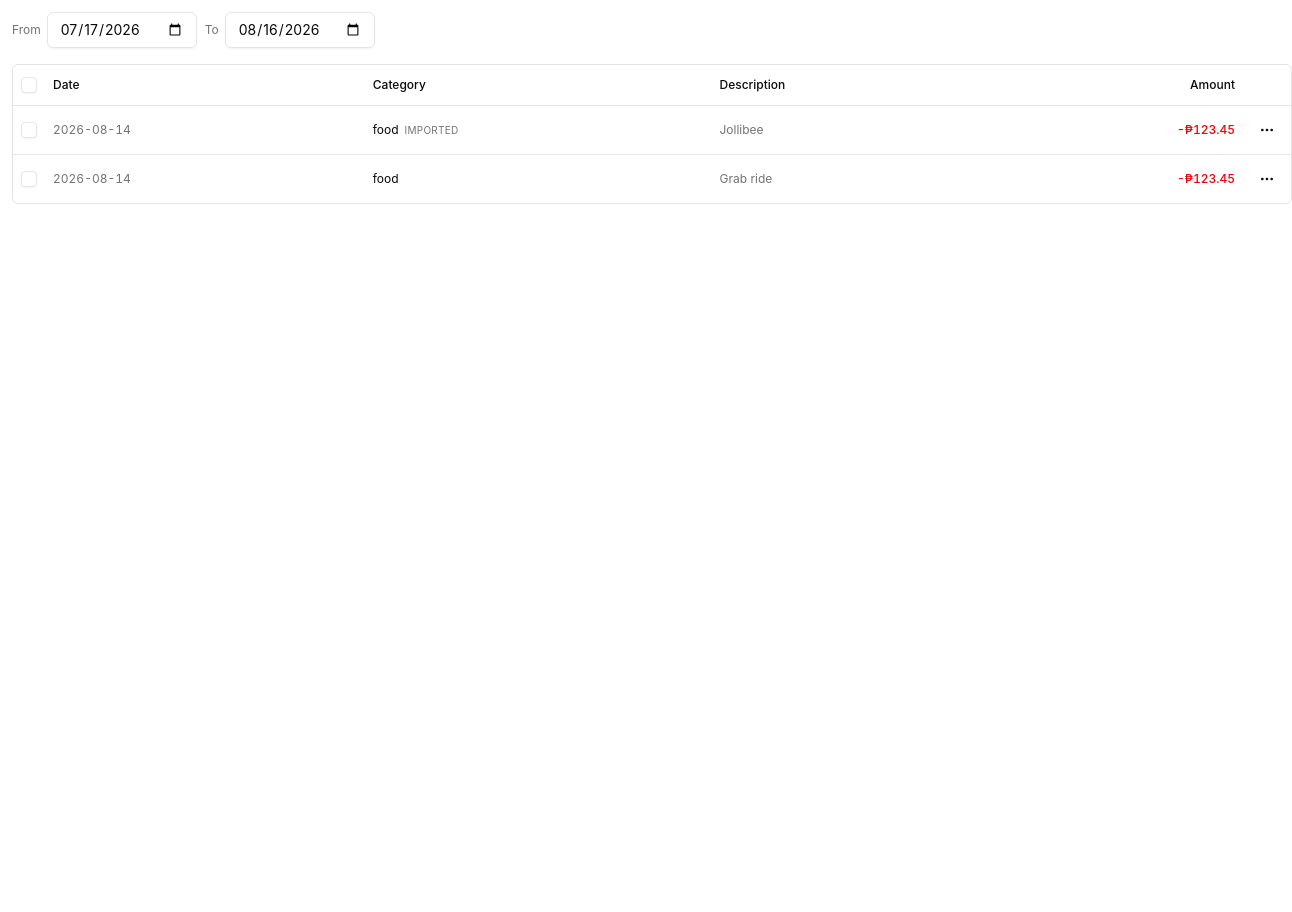
Test: TransactionsPage bulk selection › tri-state header checkbox selects and clears all visible rows
Click the checkbox named "Select all visible transactions".
click(29, 85)  # box [21, 77, 37, 93]
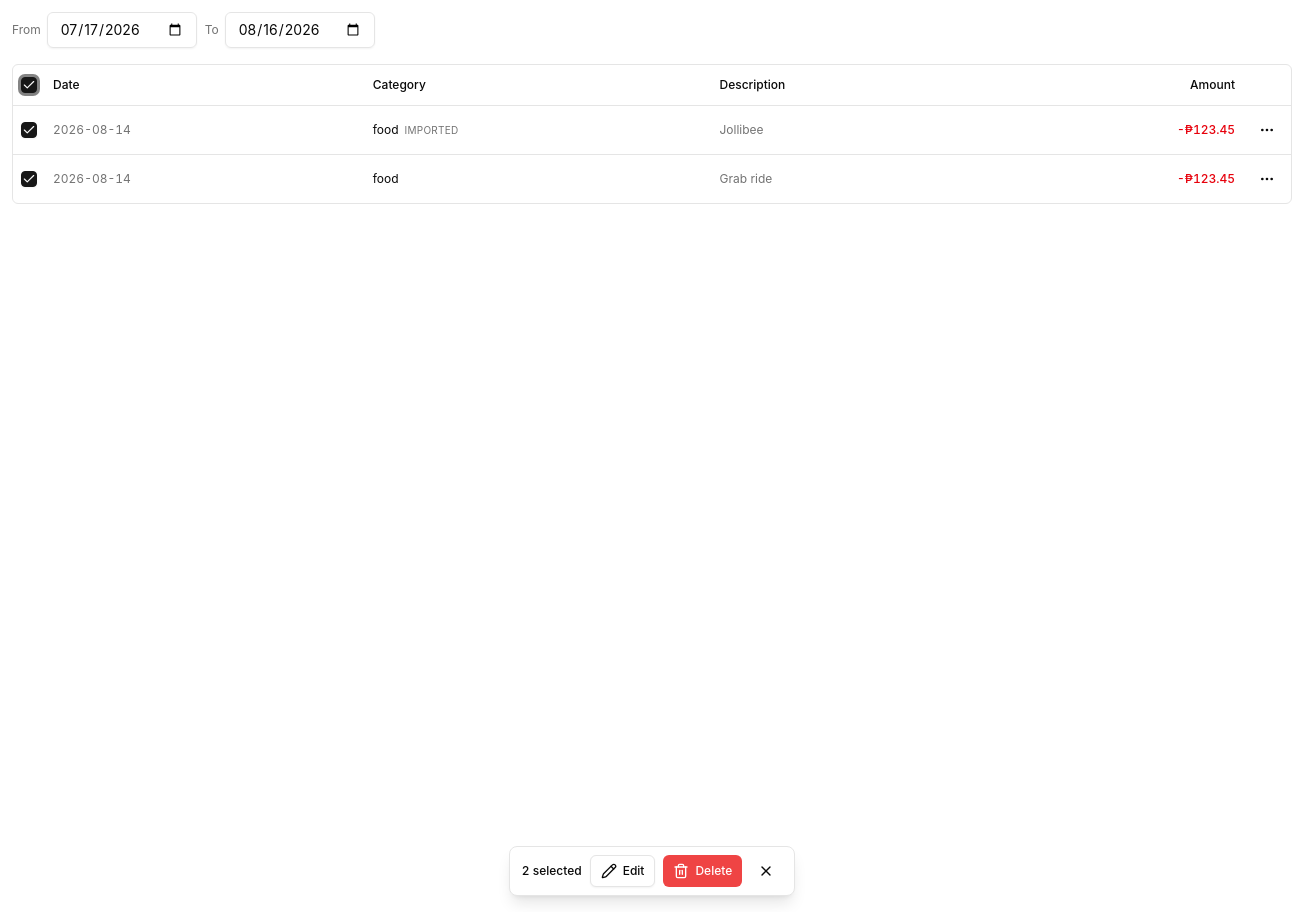
Now the text "2 selected" is shown, box [522, 863, 582, 879]
Click the checkbox named "Select Jollibee on 2026-08-14".
click(29, 130)  # box [21, 122, 37, 138]
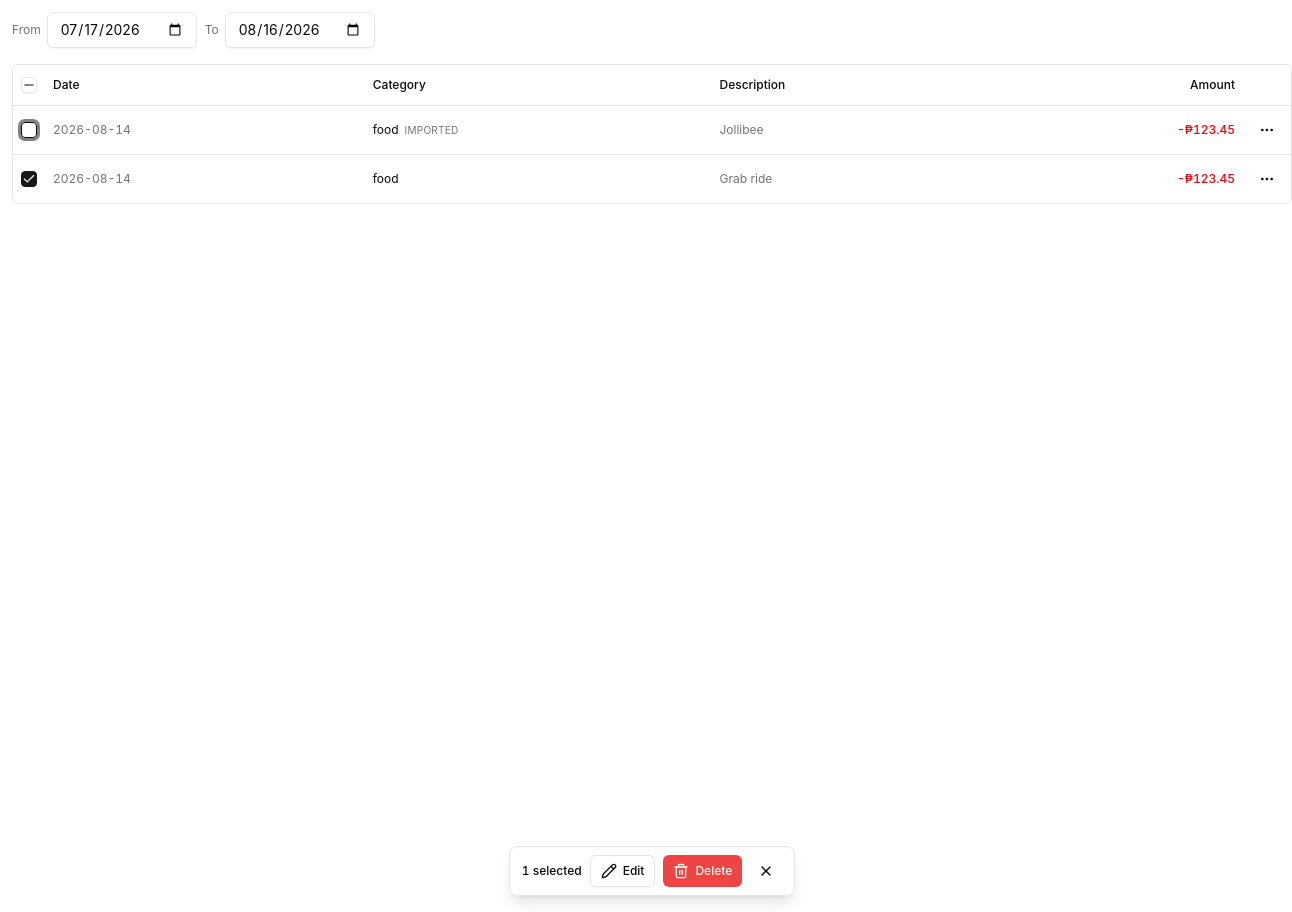
Now the text "1 selected" is shown, box [522, 863, 582, 879]
Click the button named "Clear selection".
click(766, 871)  # box [750, 855, 782, 887]
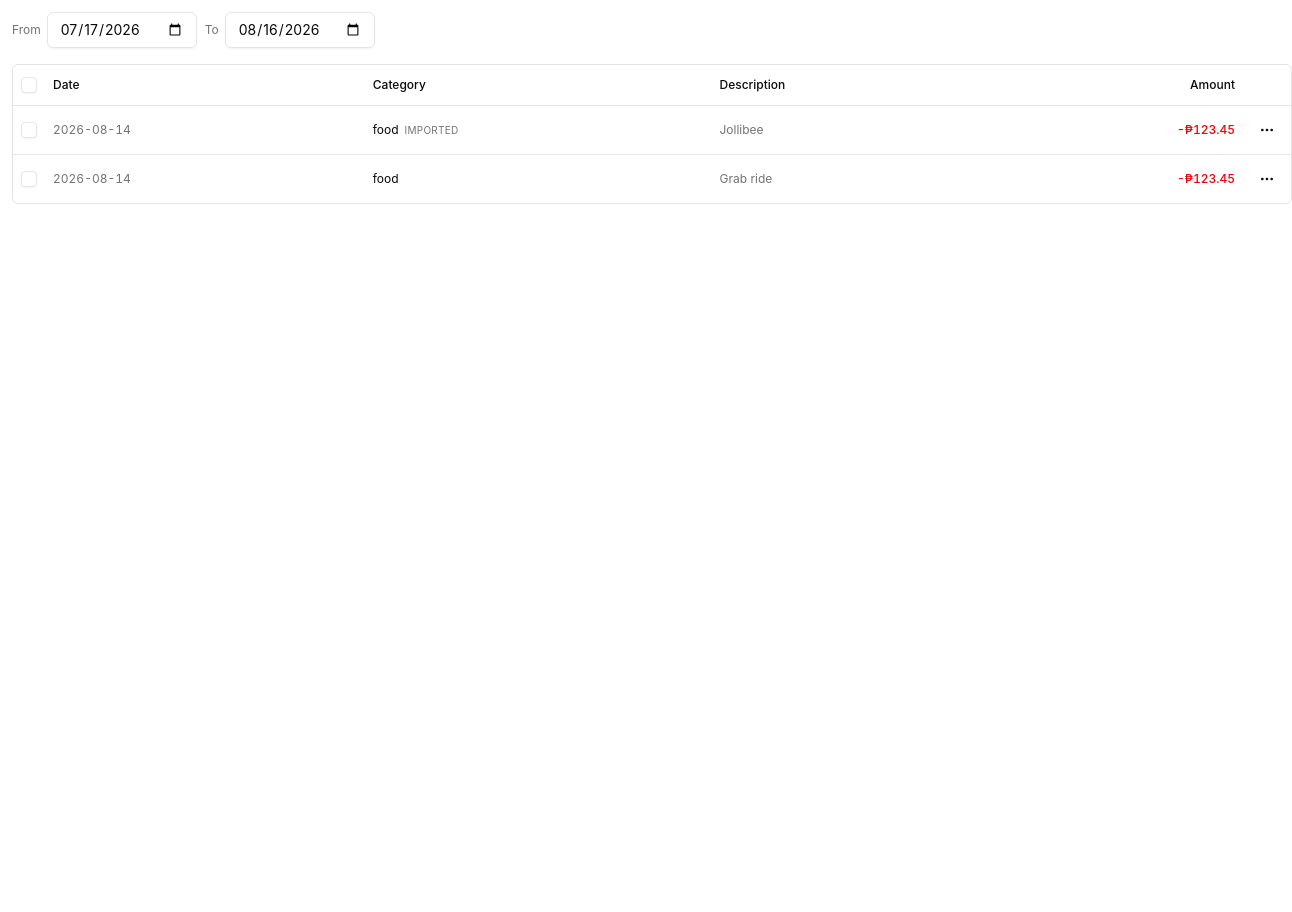
Now the text "selected" is gone
